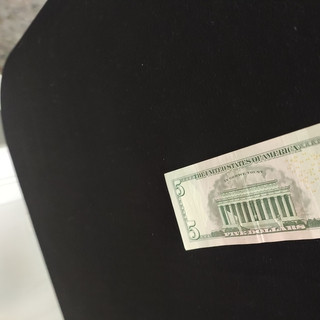5USDBack: (163, 115, 320, 251)
